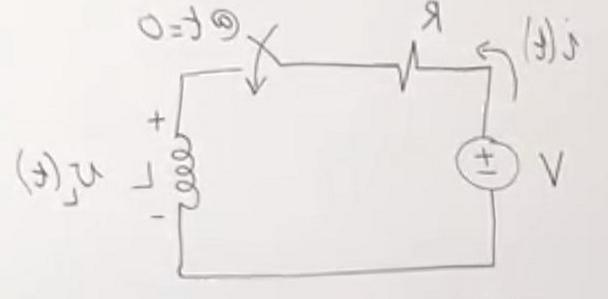Battery: (442, 123, 535, 214)
